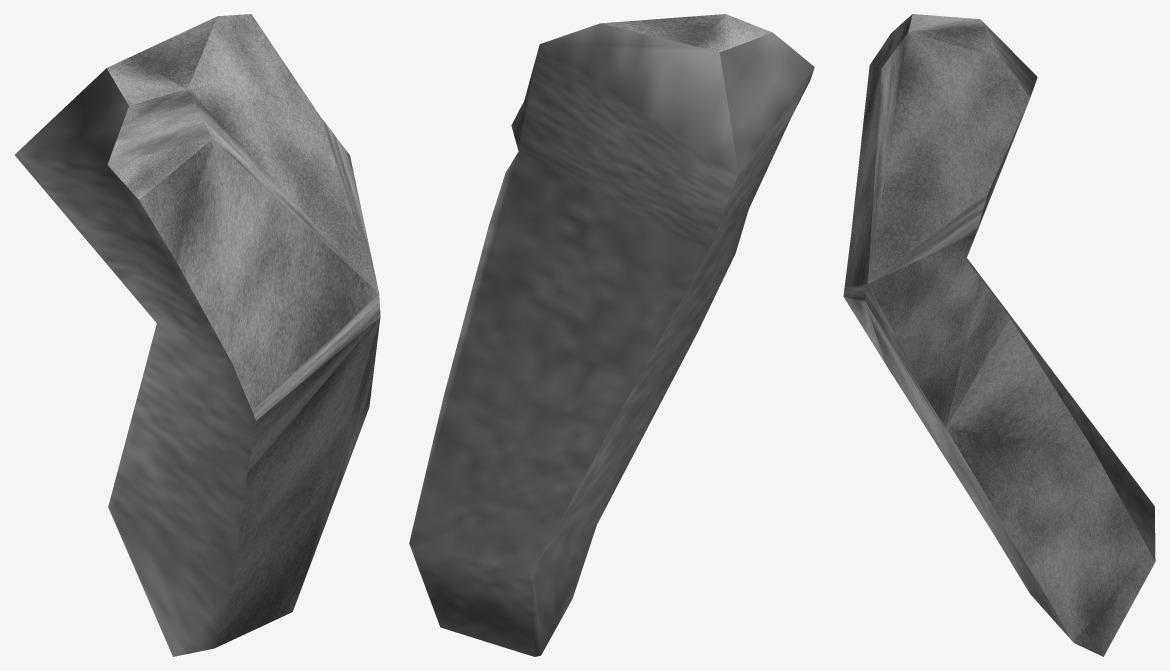
File: leg_2_cell_011.fbx
3 renders of one model, left to right at view 1: azimuth 30°, elevation 25°; view 2: azimuth 150°, elevation 25°; view 3: azimuth 270°, elevation 25°, orthographic. The views are drawn at different scales.
Parts seen in each view (by area): view 1: leg_2_cell.011; view 2: leg_2_cell.011; view 3: leg_2_cell.011.
Part boxes in pixels (<box>): leg_2_cell.011: <box>15,14,380,656</box>; leg_2_cell.011: <box>409,14,814,656</box>; leg_2_cell.011: <box>843,14,1155,656</box>.
Bounding box in the file's own units: 24.44 × 52.53 × 26.52.
